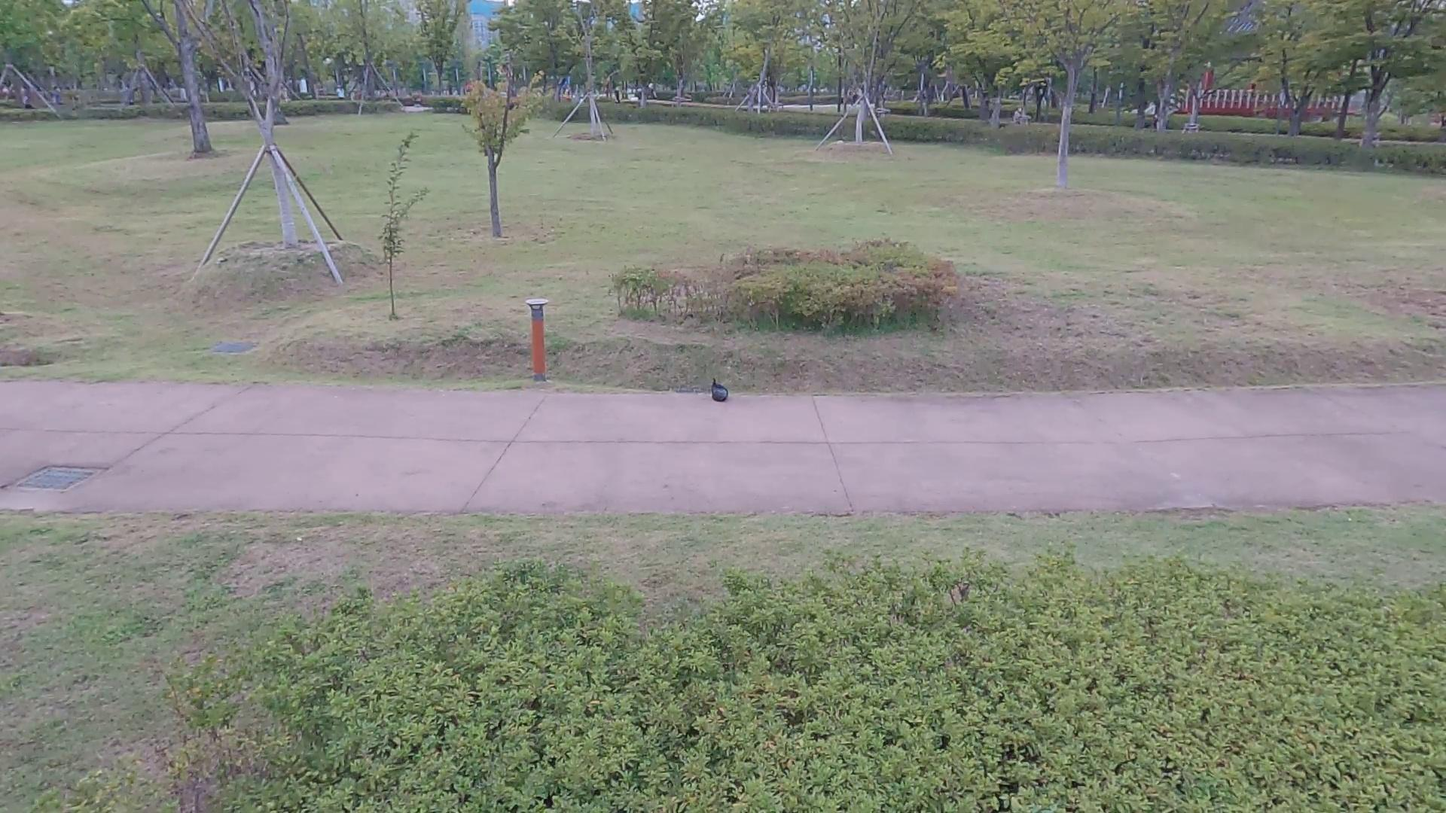trash: (706, 376, 731, 406)
